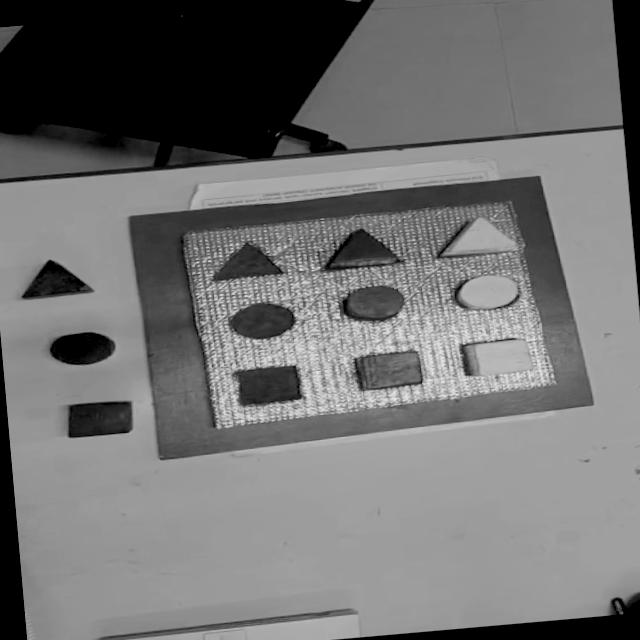bcircle: (46, 328, 118, 369)
bcube: (62, 397, 136, 439)
btriangle: (16, 256, 96, 300)
mtcircle: (226, 300, 298, 342)
mtcube: (230, 364, 304, 408)
mttriangle: (205, 238, 289, 284)
rcircle: (342, 284, 407, 322)
rcube: (355, 349, 424, 391)
rtriangle: (322, 224, 402, 272)
wb: (180, 196, 558, 429)
ycircle: (452, 272, 522, 314)
ycube: (482, 338, 534, 376)
ytriangle: (436, 213, 520, 259)
